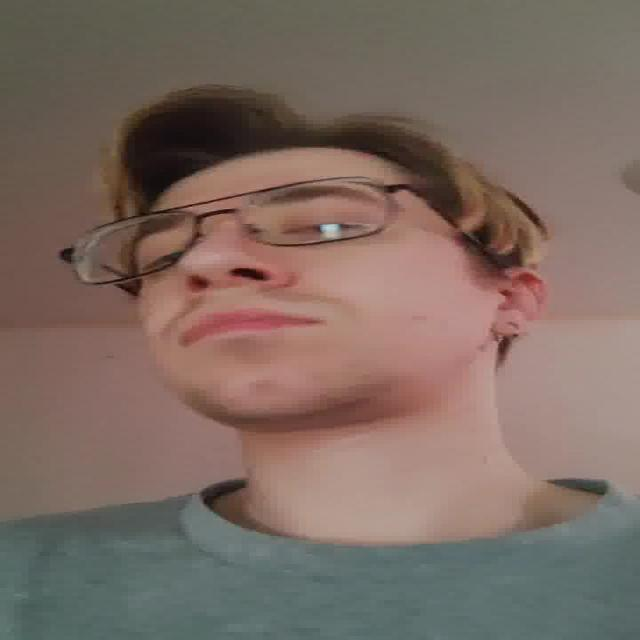earlobe: (487, 267, 551, 336)
